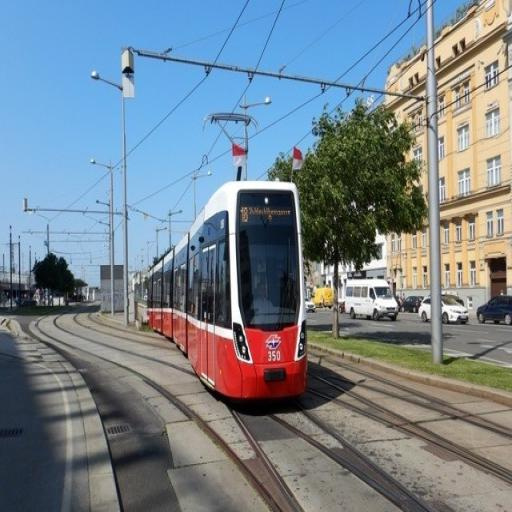Flexity: (136, 174, 312, 408)
